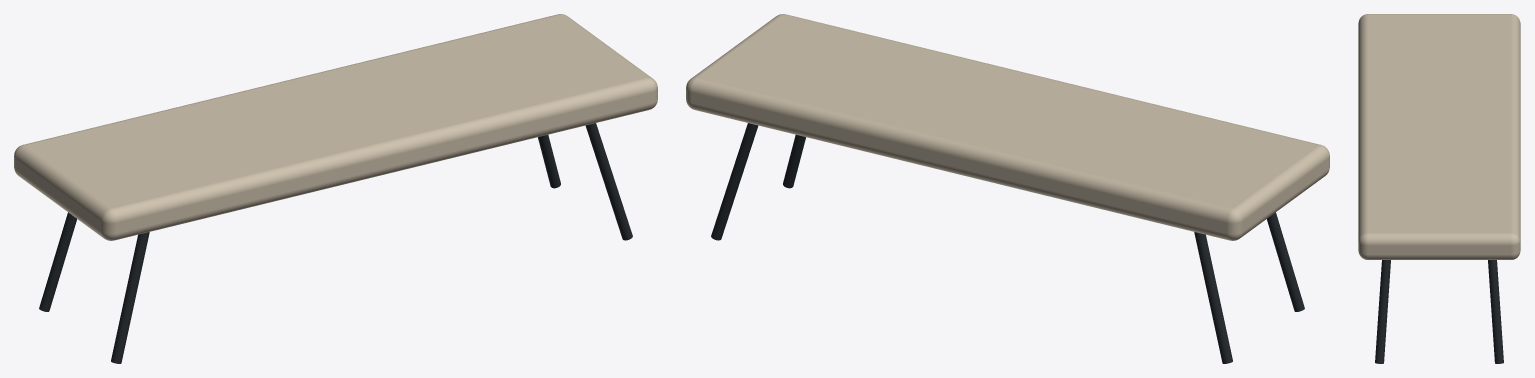
File: bench-2.glb
3 renders of one model, left to right at view 1: azimuth 30°, elevation 25°; view 2: azimuth 150°, elevation 25°; view 3: azimuth 270°, elevation 25°, orthographic. The views are drawn at different scales.
Parts seen in each view (by area): view 1: bench:2:archviz; view 2: bench:2:archviz; view 3: bench:2:archviz.
Part boxes in pixels (x1,y1,x2,y2): bench:2:archviz: (14, 14, 657, 363); bench:2:archviz: (686, 14, 1329, 363); bench:2:archviz: (1358, 14, 1520, 363).
Bounding box in the file's own units: 1.65 × 0.464 × 0.5.
